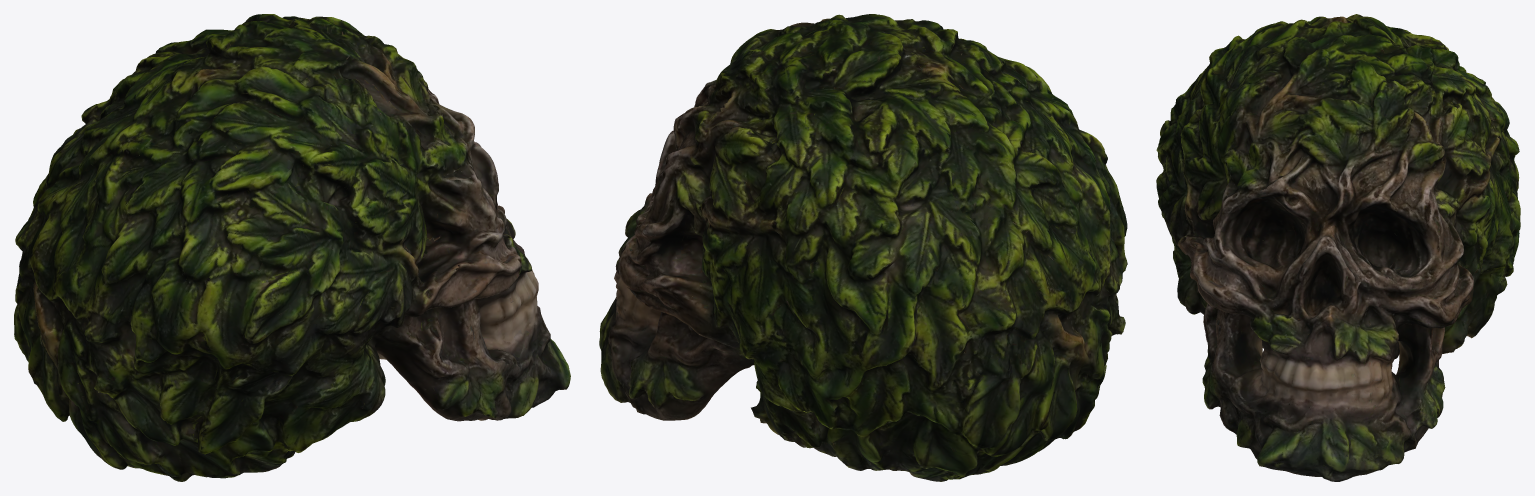
The model's file is sf-forest-skull-ce4d33.glb.
The picture shows the model from 3 angles, left to right: view 1: azimuth 30°, elevation 25°; view 2: azimuth 150°, elevation 25°; view 3: azimuth 270°, elevation 25°; orthographic projection. The views are drawn at different scales.
Parts seen in each view (by area): view 1: Object_2; view 2: Object_2; view 3: Object_2.
Part boxes in pixels (x1,y1,x2,y2): Object_2: [14, 14, 570, 481]; Object_2: [599, 14, 1127, 481]; Object_2: [1156, 14, 1520, 481].
Bounding box in the file's own units: 9.87 × 7.71 × 7.34.
Materials: 1 (1 with a texture image).
